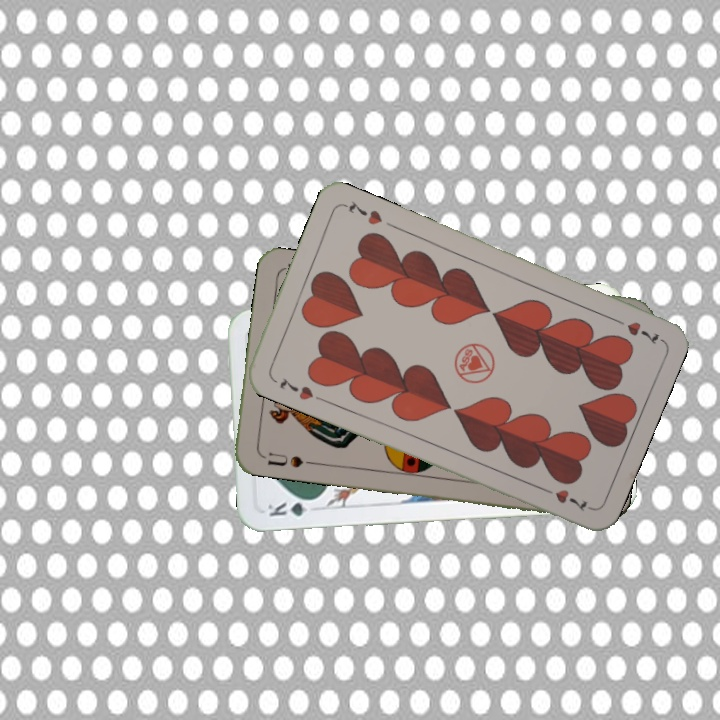GK: (263, 495, 320, 519)
H7: (608, 313, 664, 347), (275, 373, 316, 403)
SU: (257, 448, 306, 470)
